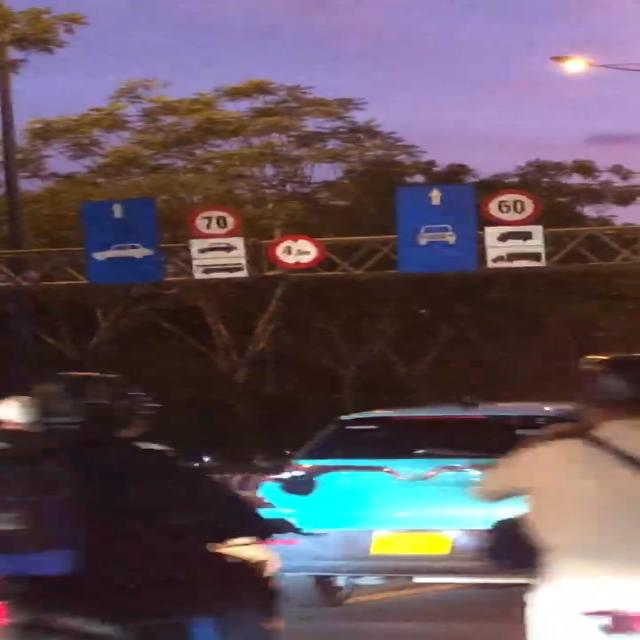Bien bao toc do toi da cho phep: (481, 189, 541, 226), (190, 206, 242, 238)
